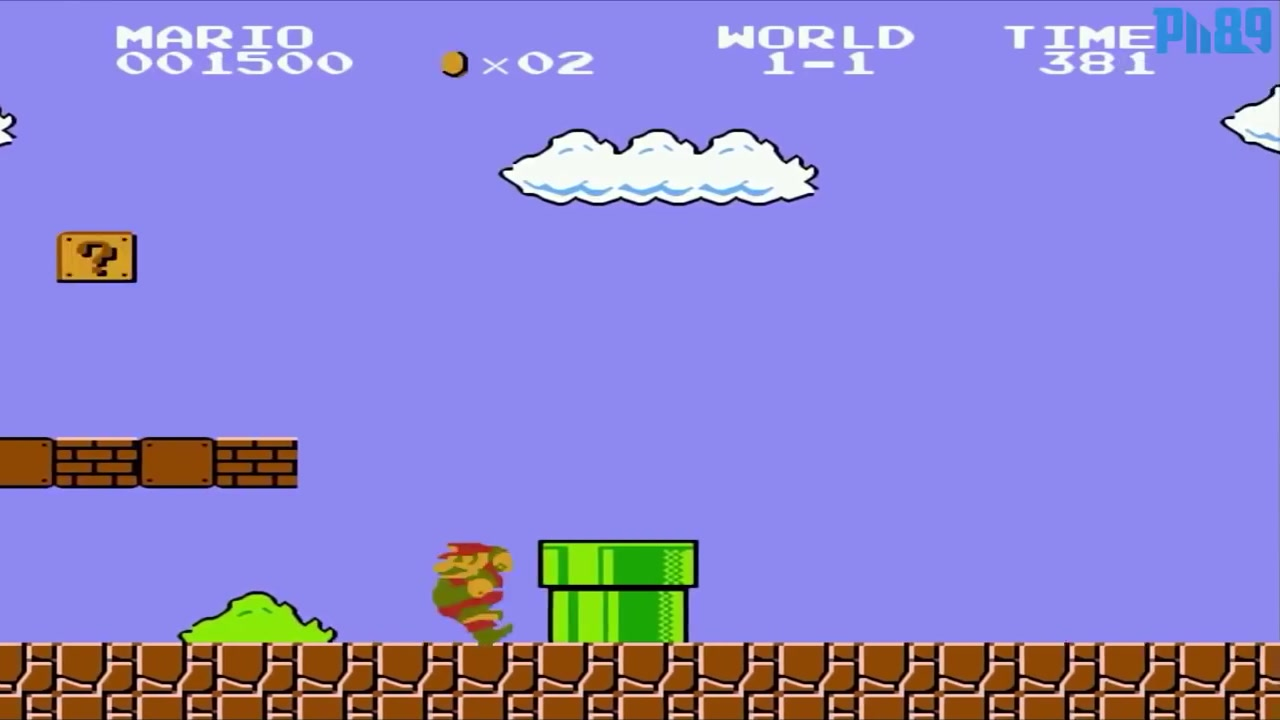mario: (425, 539, 527, 644)
